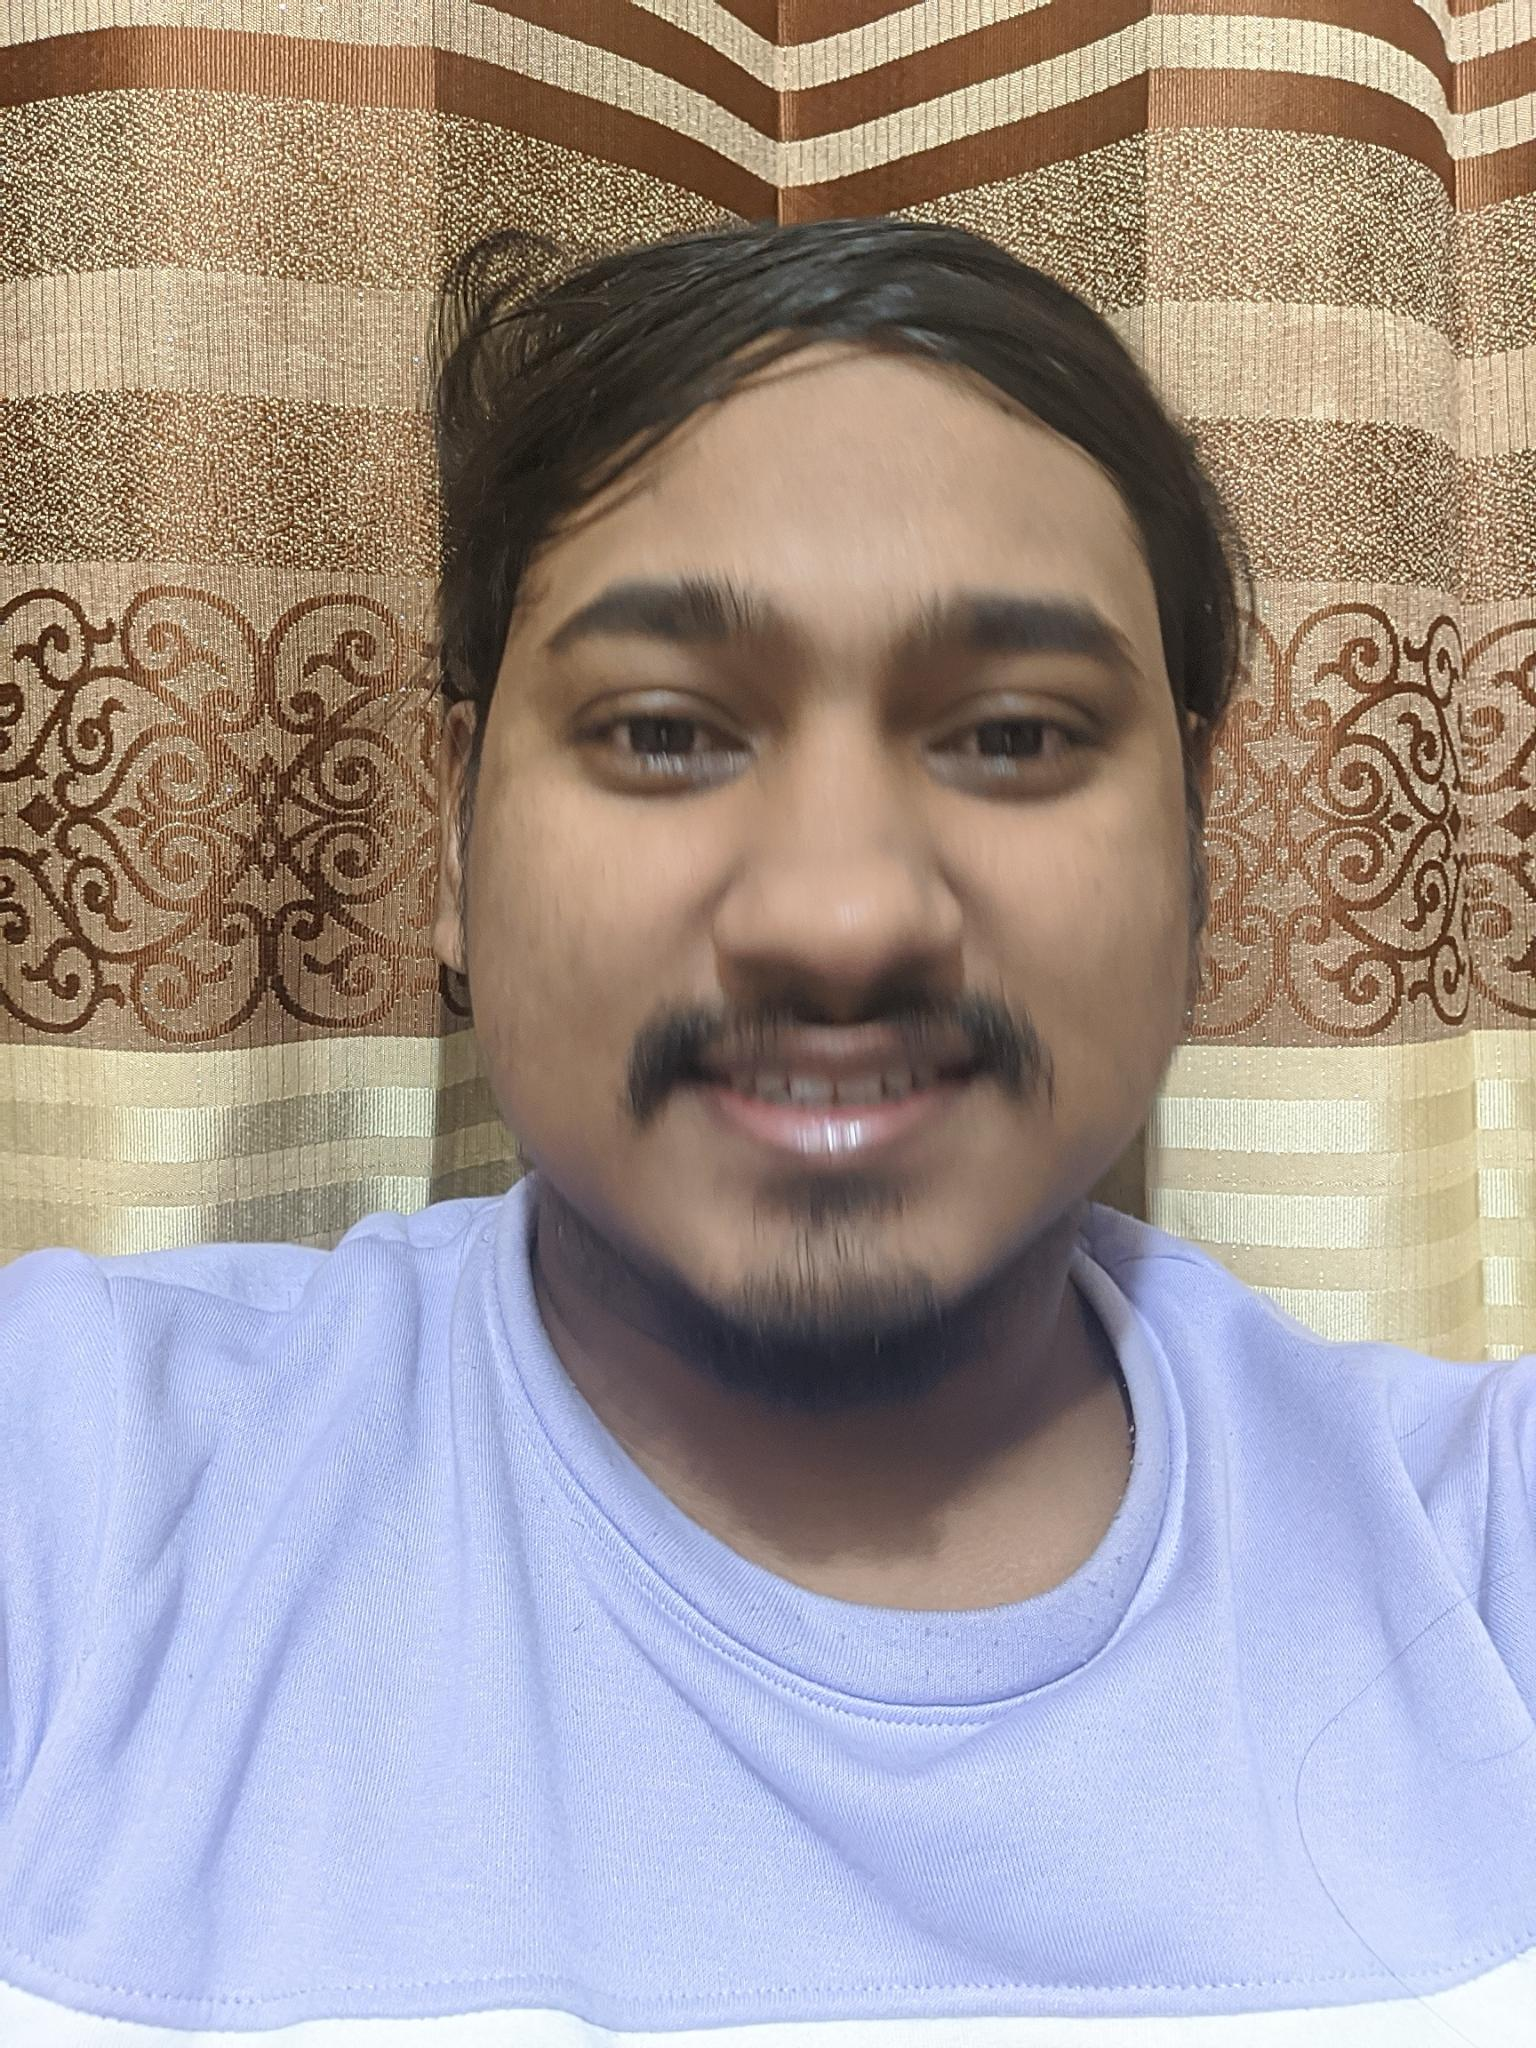Happy: (511, 503, 1208, 1329)
